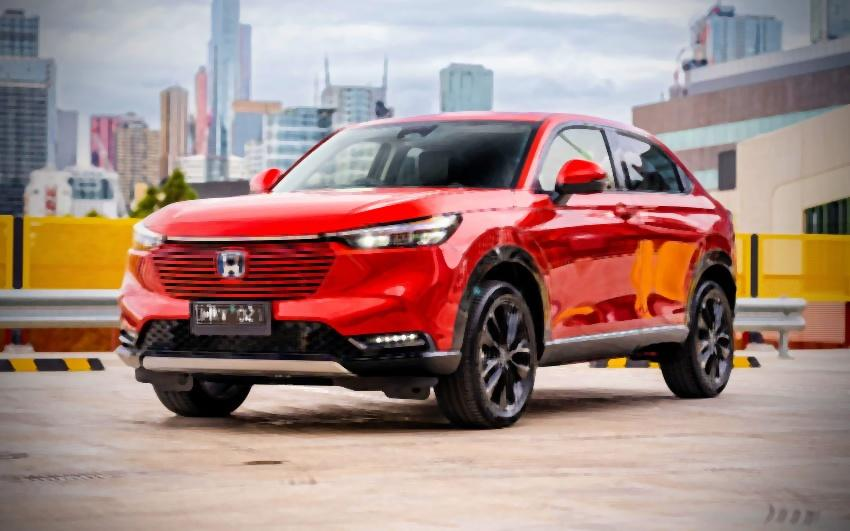Car hood: (137, 185, 517, 239)
Fender - -F-L-: (444, 190, 552, 361)
Fender - -R-L-: (677, 153, 740, 353)
Front bumper: (113, 246, 460, 389)
Headlight - -L-: (326, 210, 459, 251)
Headlight - -R-: (129, 219, 170, 260)
Passenger-s door - -F-L-: (522, 102, 649, 368)
Passenger-s door - -R-L-: (608, 113, 712, 366)
Side bumper - -L-: (535, 317, 696, 374)
Side mirror - -L-: (546, 155, 609, 212)
Side mirror - -R-: (246, 165, 280, 195)
